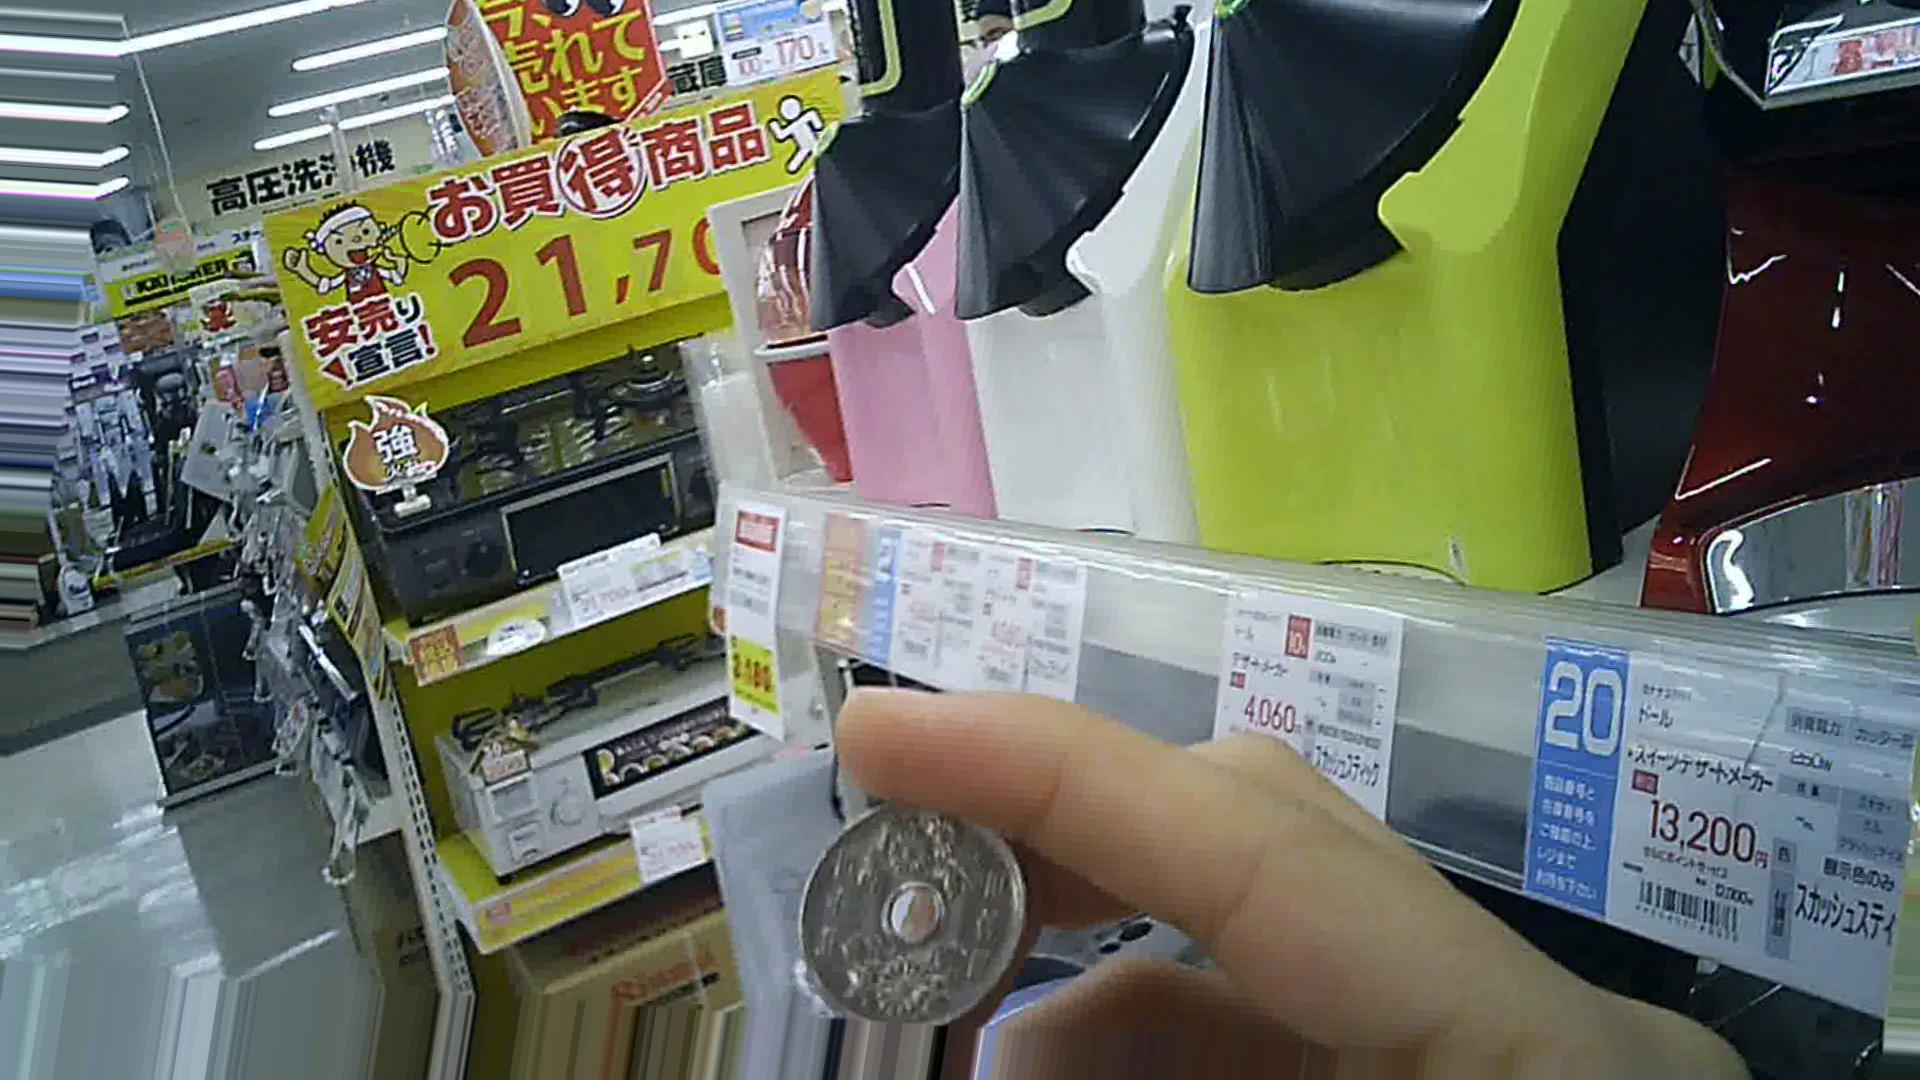50 Yen: (793, 800, 1047, 1051)
